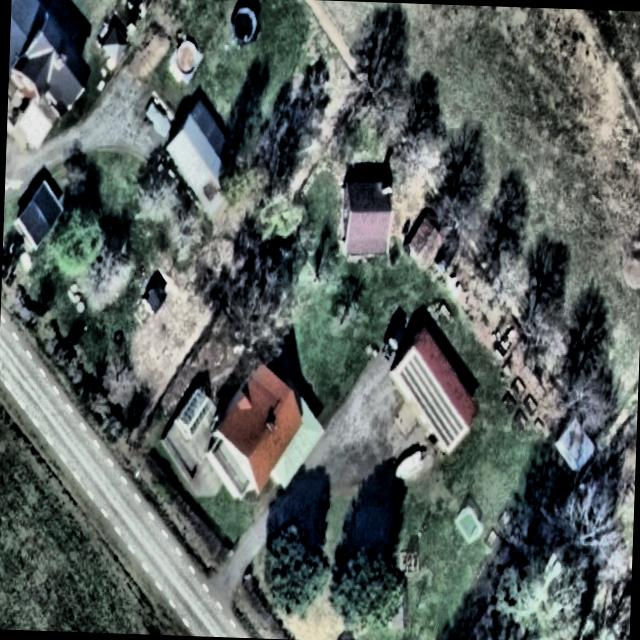roof_pv: (419, 376, 465, 446), (395, 352, 436, 402)
